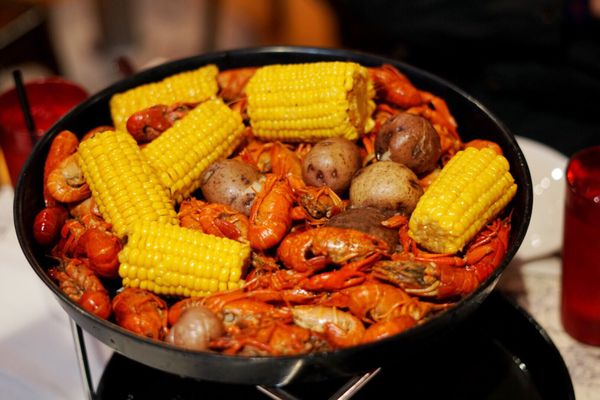sushi: (10, 13, 580, 390)
